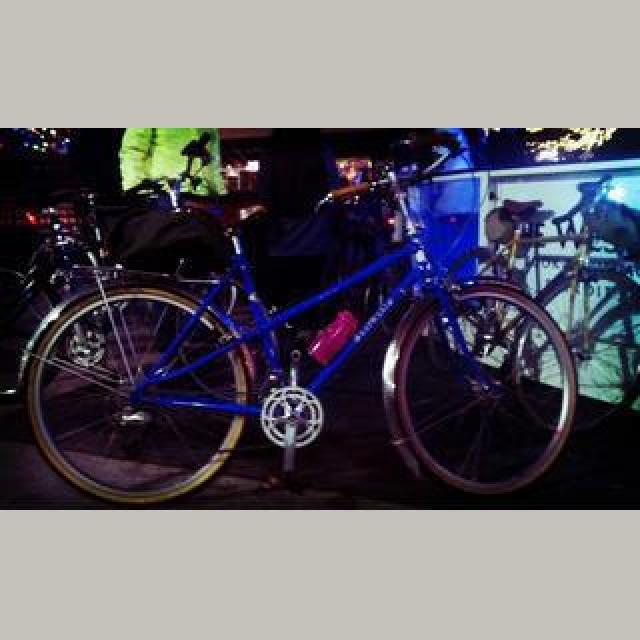Person: (22, 158, 602, 506), (446, 184, 640, 418)
